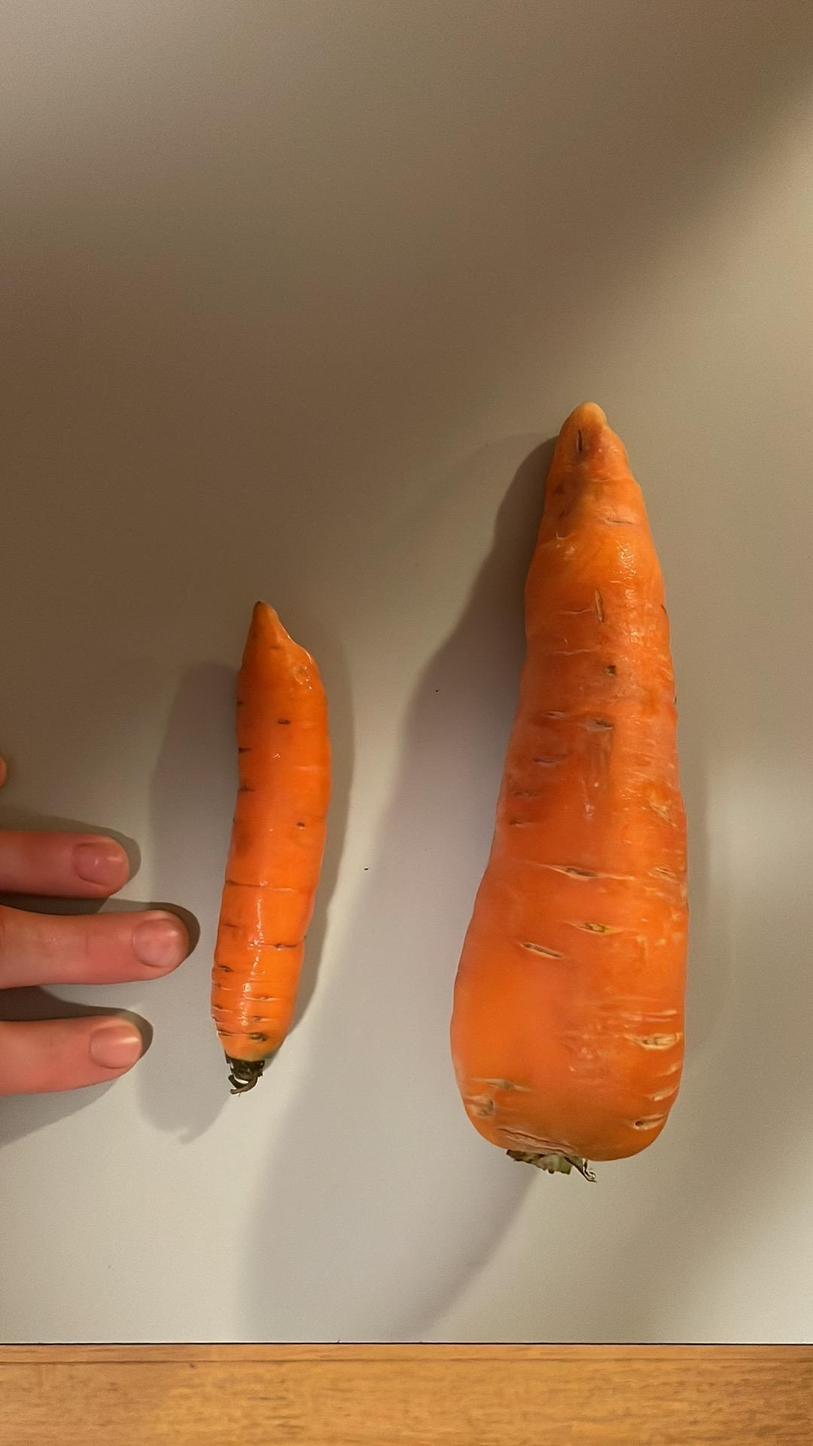carrot: (447, 381, 695, 1195), (203, 575, 344, 1115)
